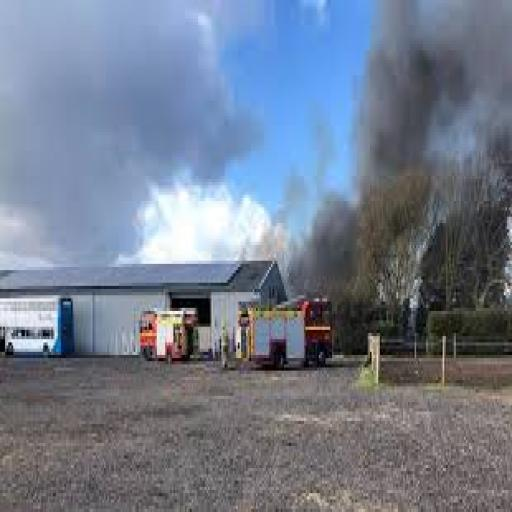smoke: (312, 6, 510, 286), (142, 195, 299, 270)
